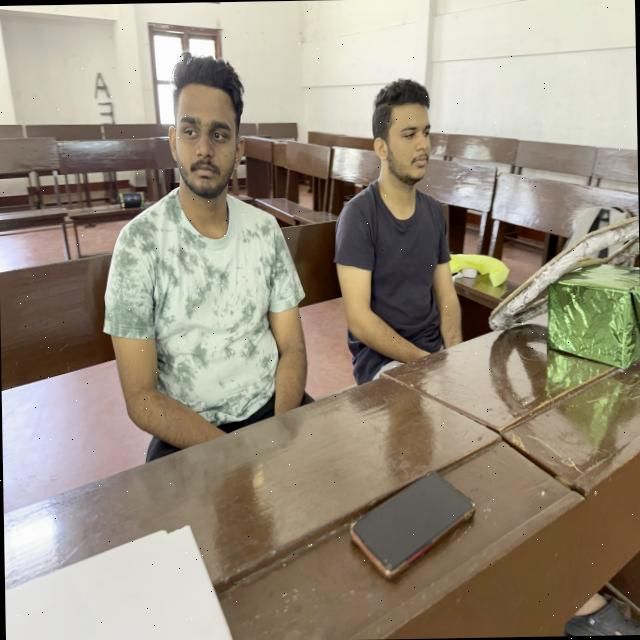no-seatbelt: (105, 184, 305, 466), (336, 186, 462, 393)
